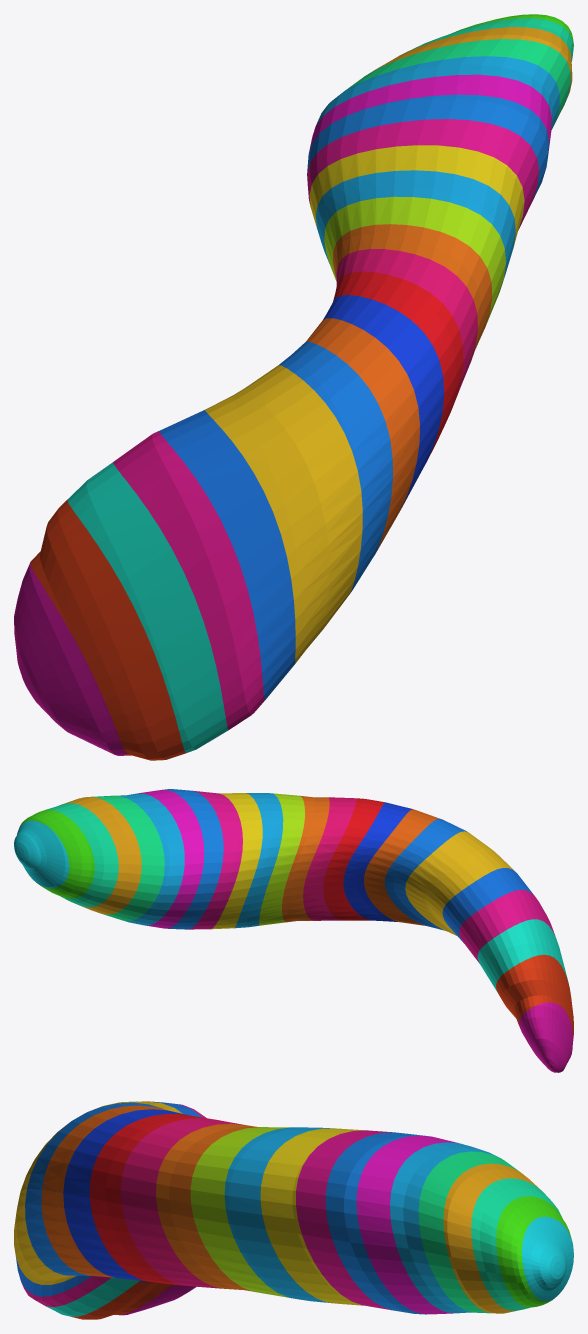
The model's file is pancreas-male-uf.glb.
3 views of the same model, one above another, from view 1: azimuth 30°, elevation 25°; view 2: azimuth 150°, elevation 25°; view 3: azimuth 270°, elevation 25° (orthographic). The views are drawn at different scales.
Parts seen in each view (by area): view 1: world; view 2: world; view 3: world.
Part boxes in pixels (bbox=[...]): world: bbox=[14, 14, 573, 760]; world: bbox=[14, 789, 573, 1072]; world: bbox=[14, 1101, 573, 1319].
Bounding box in the file's own units: 0.1064 × 0.0612 × 0.082.
